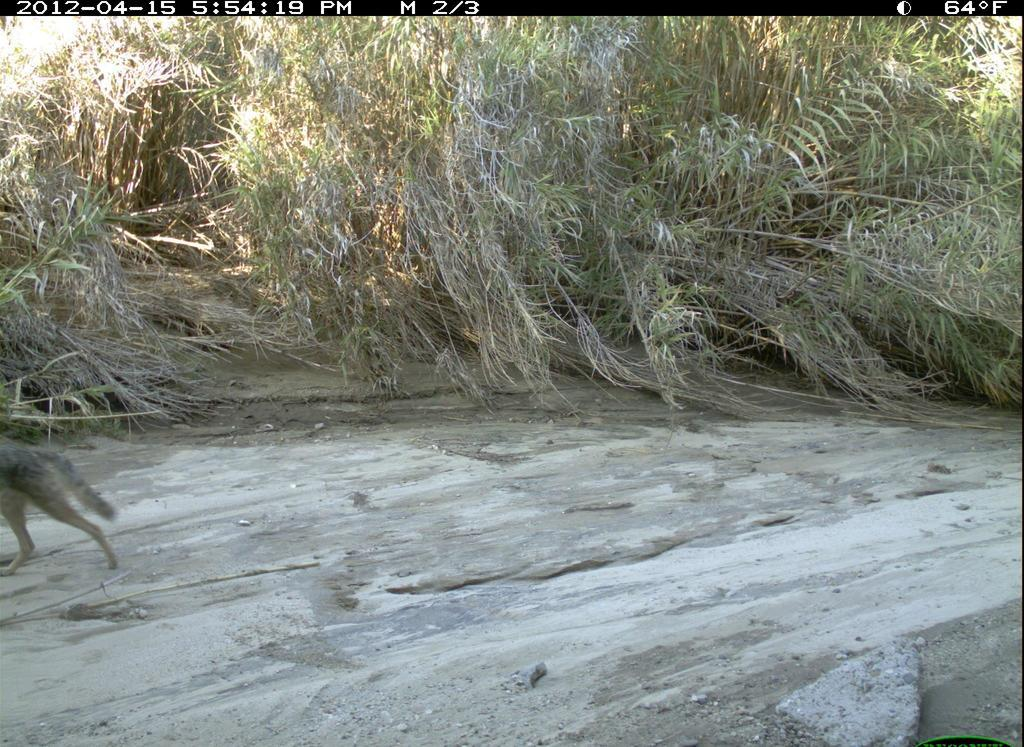coyote: (1, 427, 125, 576)
